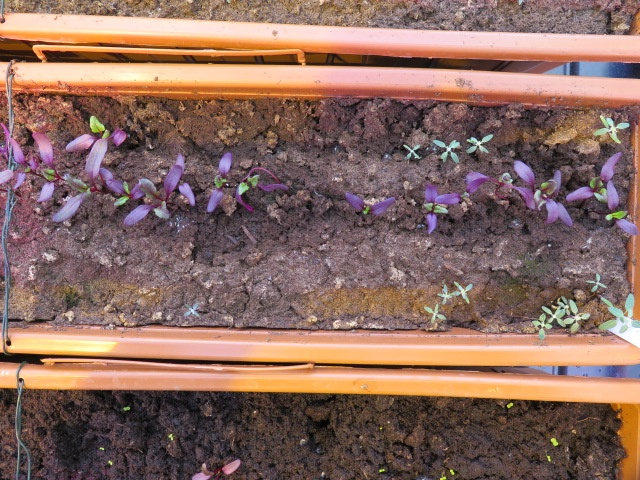crop: (123, 147, 198, 234), (54, 145, 120, 237), (514, 150, 576, 241), (466, 169, 532, 213), (30, 119, 63, 206), (233, 160, 283, 217), (565, 153, 623, 202), (66, 117, 131, 156), (545, 156, 572, 233), (433, 173, 488, 208), (1, 118, 26, 194), (207, 145, 230, 219), (343, 190, 400, 219), (605, 184, 628, 243), (423, 181, 444, 232)
weed: (588, 112, 634, 148), (430, 134, 462, 169), (464, 127, 499, 156), (582, 269, 609, 295), (398, 138, 424, 164), (549, 436, 560, 448), (503, 401, 515, 411), (117, 405, 134, 412), (106, 457, 115, 468), (375, 466, 387, 473), (96, 444, 108, 451), (544, 454, 552, 464), (448, 467, 456, 477)
